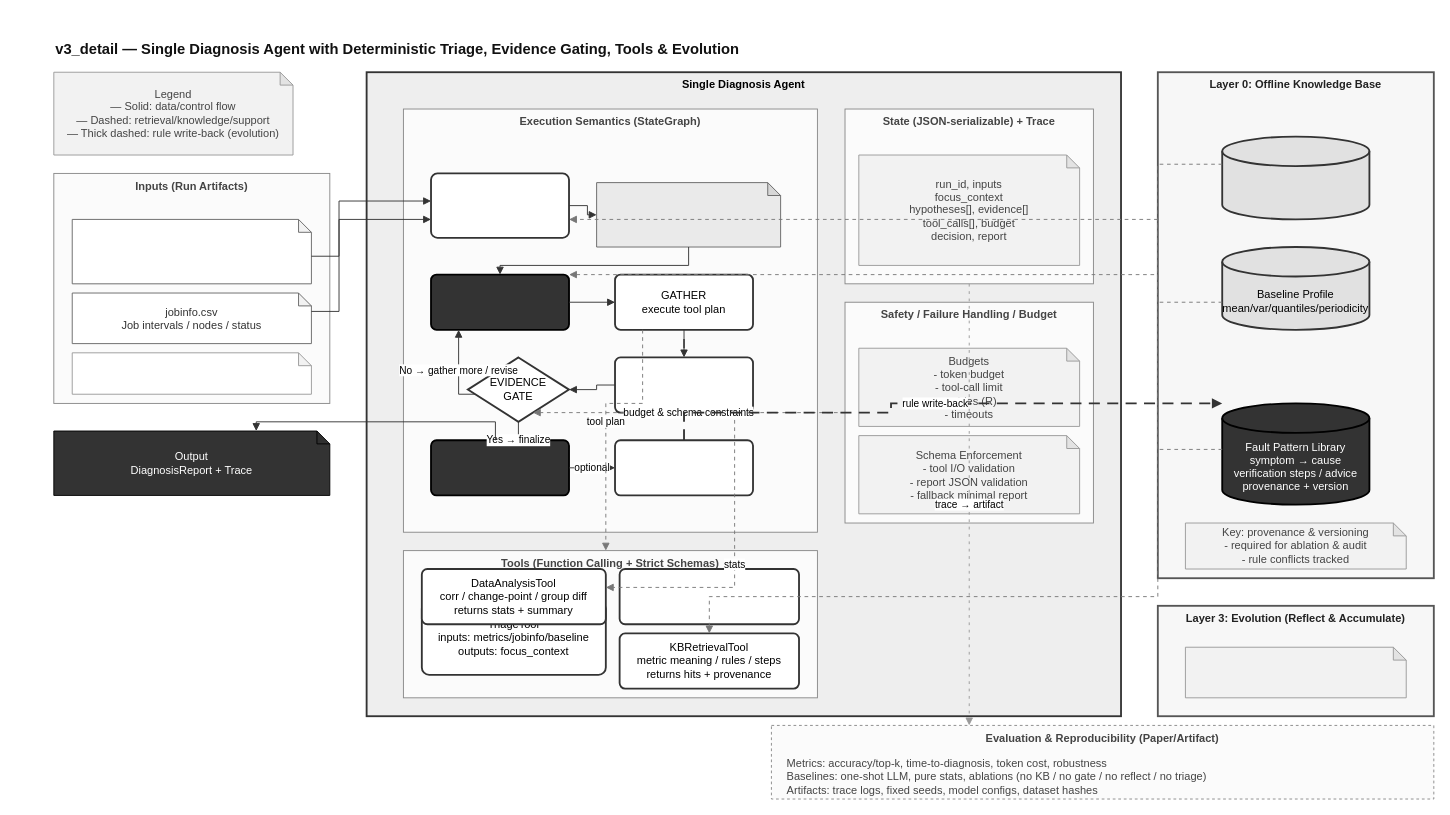
Image size: 1450x815. Some labels were removed from this diagram. Each missing label, with the centre of its shape:
chaos.csv (optional) Ground truth for offline evaluation: the point at 191,373
FINALIZE DiagnosisReport (JSON): the point at 499,467
Focus Context Top-K anomalies time windows / jobs / nodes: the point at 688,214
HYPOTHESIZE candidate causes + plan: the point at 499,301
Metric KB definition / unit / typical range subsystem mapping: the point at 1295,177
MetricQueryTool nodes + metrics + window + agg returns aggregates/series: the point at 708,596
metrics.csv Raw time series (150+ metrics, per-node): the point at 191,251
REFLECT extract rules merge to library: the point at 683,467
TRIAGE Deterministic Focus Context: the point at 499,205
VERIFY +light stats support / refute: the point at 683,384
Write-back semantics - rule extraction - conflict resolution - version bump: the point at 1295,672
